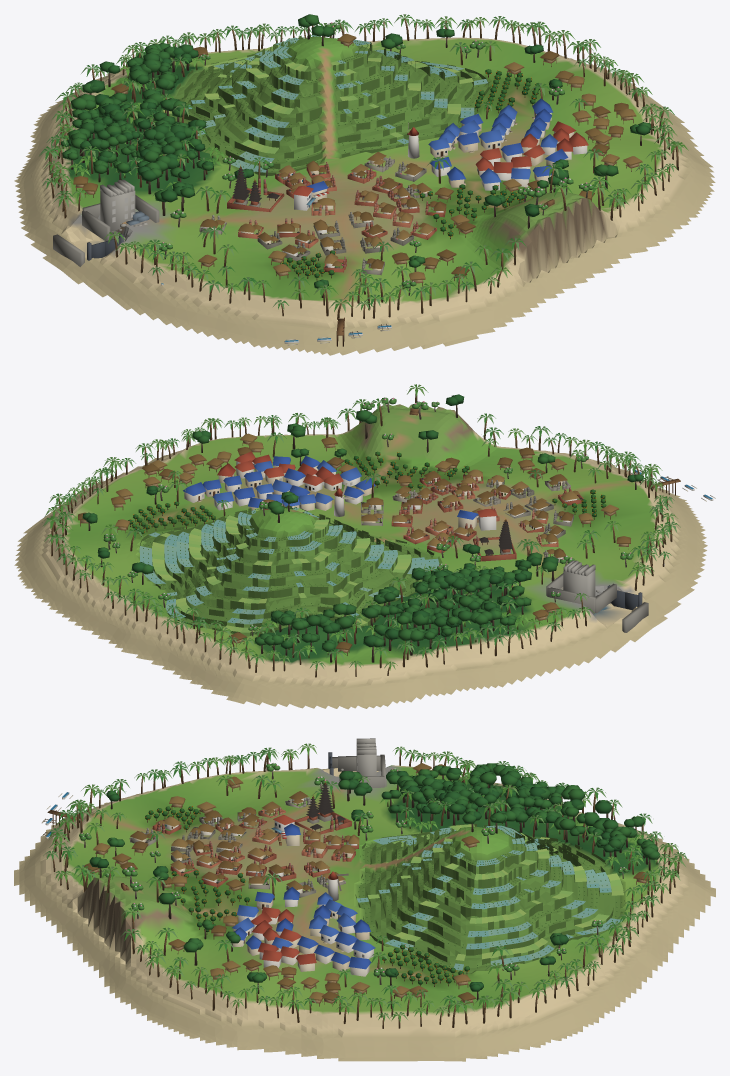
The picture shows the model from 3 angles, top to bottom: view 1: azimuth 30°, elevation 25°; view 2: azimuth 150°, elevation 25°; view 3: azimuth 270°, elevation 25°; orthographic projection. The views are drawn at different scales.
Parts seen in each view (by area): view 1: BASE, VILLE_2, VILLE_3, VILLE_4; view 2: BASE, VILLE_2, VILLE_3, VILLE_4; view 3: BASE, VILLE_2, VILLE_3, VILLE_4.
Boxes of the visible parts, x1,y1,x2,y2 form: BASE: [14, 14, 715, 355]; VILLE_2: [153, 25, 651, 345]; VILLE_3: [82, 51, 642, 275]; VILLE_4: [73, 76, 603, 286]; BASE: [14, 384, 707, 709]; VILLE_2: [97, 394, 715, 646]; VILLE_3: [78, 433, 630, 655]; VILLE_4: [116, 447, 619, 624]; BASE: [14, 738, 715, 1061]; VILLE_2: [46, 762, 651, 993]; VILLE_3: [129, 763, 603, 1006]; VILLE_4: [84, 764, 446, 1000].
Bounding box in the file's own units: 64.5 × 11.74 × 66.
